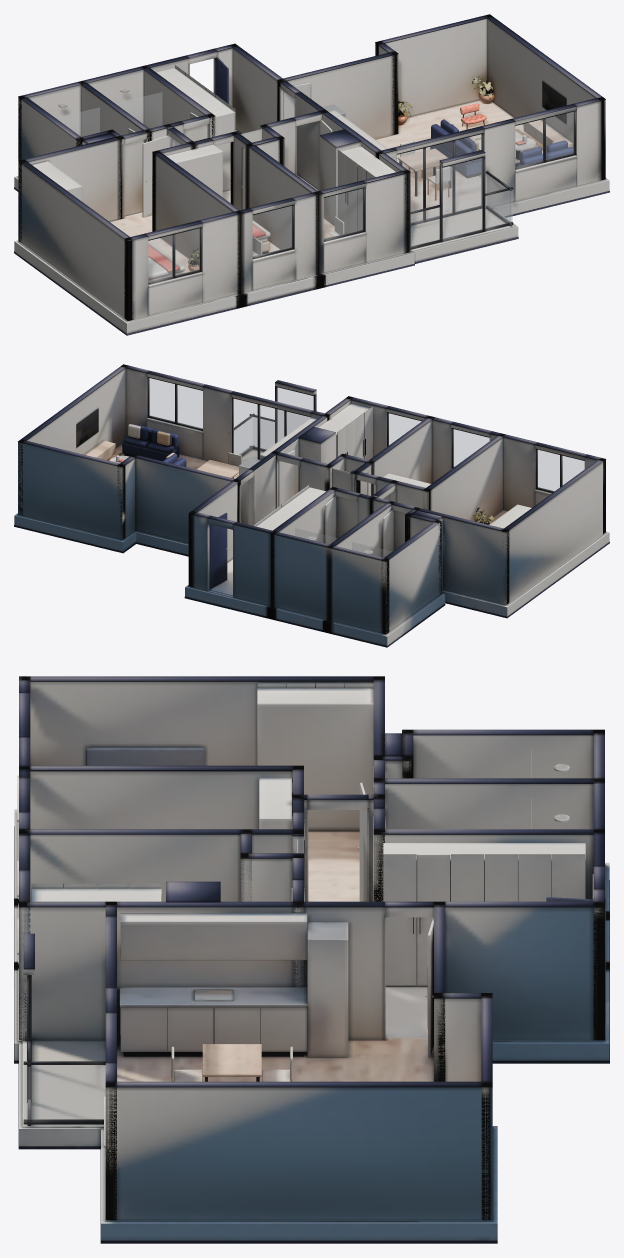
The picture shows the model from 3 angles, top to bottom: view 1: azimuth 30°, elevation 25°; view 2: azimuth 150°, elevation 25°; view 3: azimuth 270°, elevation 25°; orthographic projection. The views are drawn at different scales.
Parts seen in each view (by area): view 1: plan, glass4_m, glass5_m, glass3_m, glass0_m, glass1_m, glass2_m, sg.001_m, railg2_m, railg3_m, sg_m, railg5_m; view 2: plan, glass4_m, glass3_m, glass0_m, glass5_m, glass1_m, glass2_m, railg5_m, railg3_m; view 3: plan, railg5_m.
Boxes of the visible parts, x1,y1,x2,y2 form: plan: [14, 14, 609, 335]; glass4_m: [397, 134, 481, 222]; glass5_m: [443, 158, 482, 239]; glass3_m: [515, 112, 573, 167]; glass0_m: [148, 228, 199, 282]; glass1_m: [253, 206, 292, 256]; glass2_m: [324, 189, 363, 239]; sg.001_m: [116, 92, 162, 128]; railg2_m: [411, 207, 439, 246]; railg3_m: [485, 190, 512, 228]; sg_m: [56, 107, 99, 136]; railg5_m: [487, 174, 511, 223]; plan: [14, 364, 609, 647]; glass4_m: [233, 399, 310, 462]; glass3_m: [149, 378, 202, 428]; glass0_m: [537, 450, 584, 491]; glass5_m: [277, 387, 313, 441]; glass1_m: [453, 429, 489, 466]; glass2_m: [388, 413, 421, 444]; railg5_m: [234, 418, 251, 454]; railg3_m: [253, 417, 274, 449]; plan: [14, 676, 609, 1243]; railg5_m: [24, 1065, 105, 1119].
Bounding box in the file's own units: 15.03 × 2.62 × 9.13.
2 materials, 1 textured.
